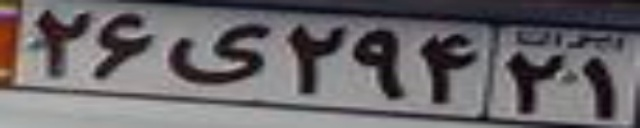1: (581, 53, 618, 119)
2: (32, 8, 90, 76), (287, 25, 340, 96), (506, 51, 563, 114)
4: (420, 33, 478, 104)
6: (95, 11, 151, 81)
9: (352, 28, 402, 99)
ye: (168, 21, 267, 83)
